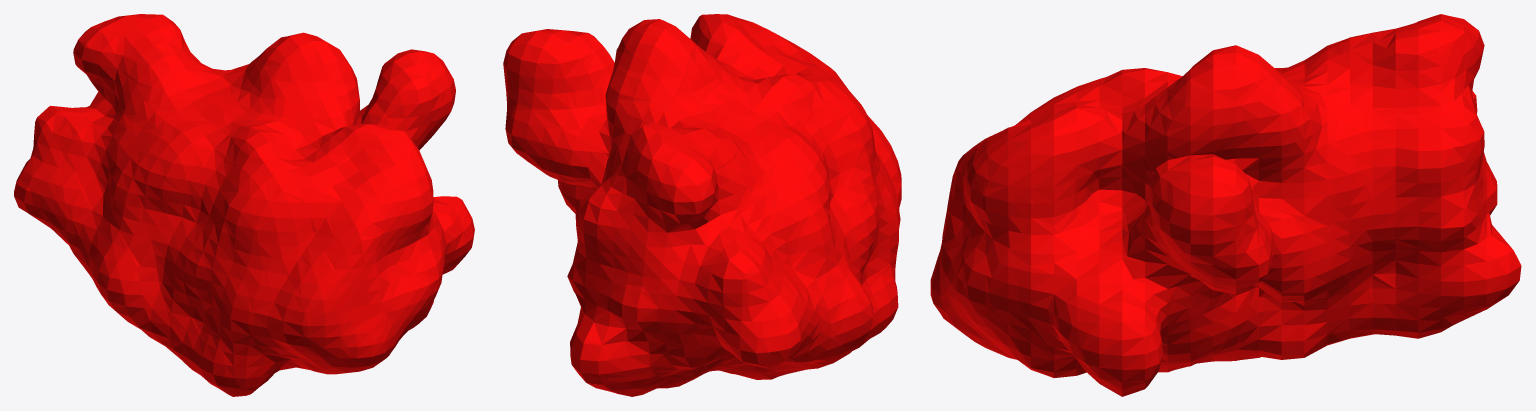
The model's file is lnt_coarse.dae.
3 renders of one model, left to right at view 1: azimuth 30°, elevation 25°; view 2: azimuth 150°, elevation 25°; view 3: azimuth 270°, elevation 25°, orthographic. The views are drawn at different scales.
Parts seen in each view (by area): view 1: lnt; view 2: lnt; view 3: lnt.
Boxes of the visible parts, box(x1,y1,x2,y2) form: lnt: box(14, 14, 474, 396); lnt: box(503, 14, 901, 396); lnt: box(930, 14, 1521, 396).
Bounding box in the file's own units: 68.42 × 55.38 × 82.17.
